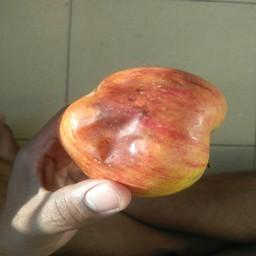Bad_apple: (58, 70, 224, 187)
